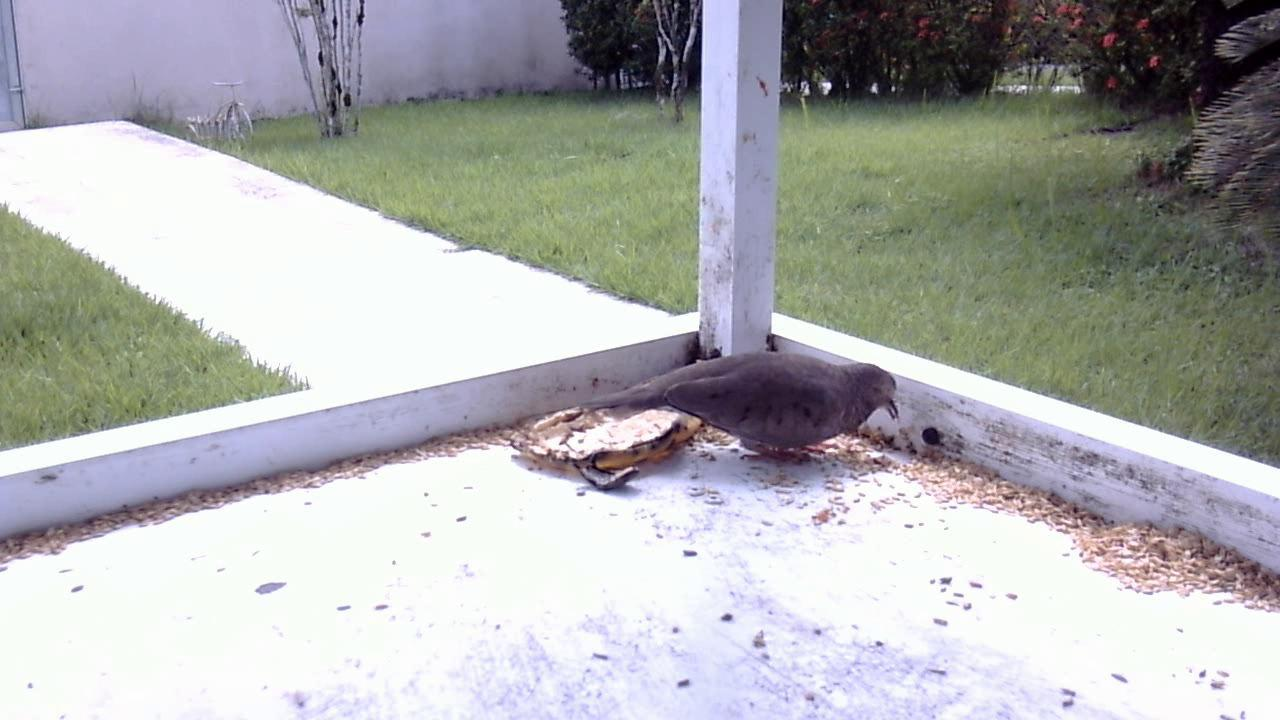rolinha: (558, 343, 903, 477)
